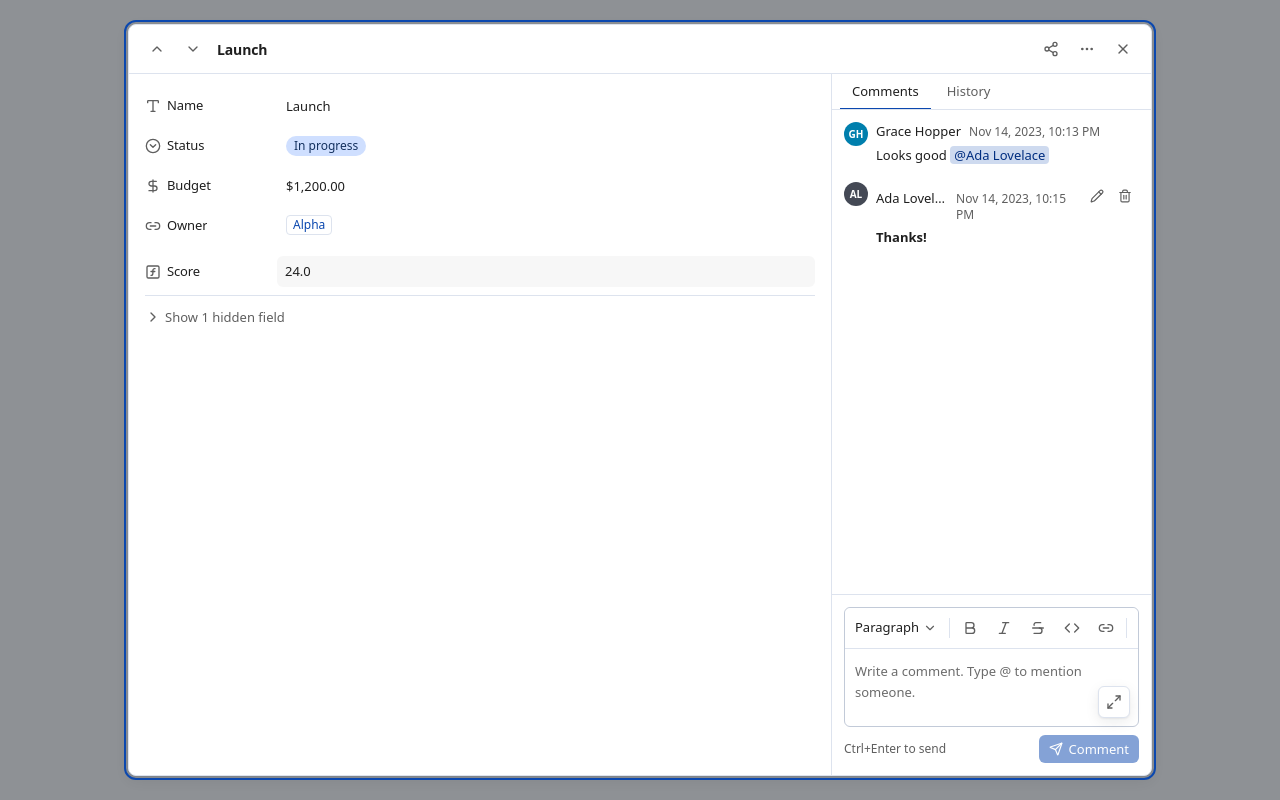
Test case: ExpandedRecord › shows a validation message for an unparseable value and does not save
Click the button named "Edit Budget". click: (316, 186)
box: [286,177,345,195]
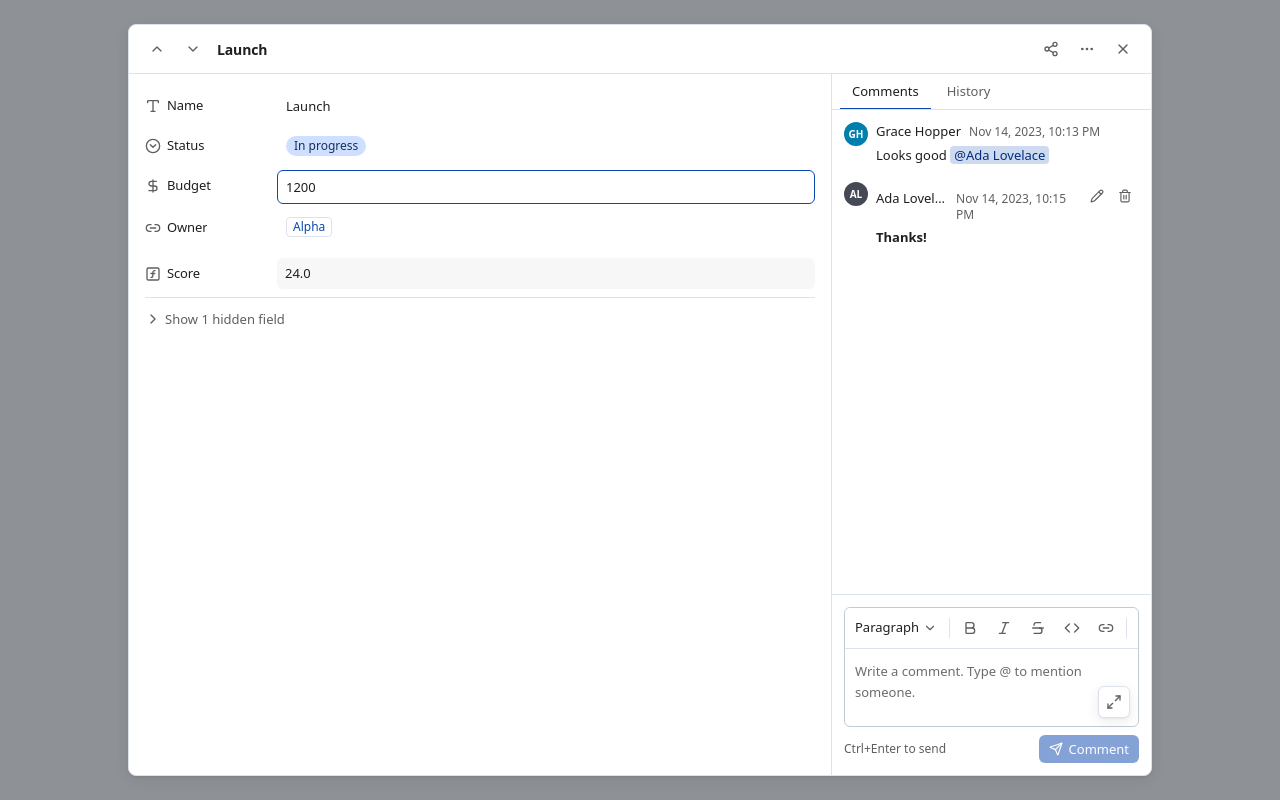
Replace the text in the field labelled "Budget" with "lots". click: (546, 187)
box: [278,171,814,203]
Then press Enter
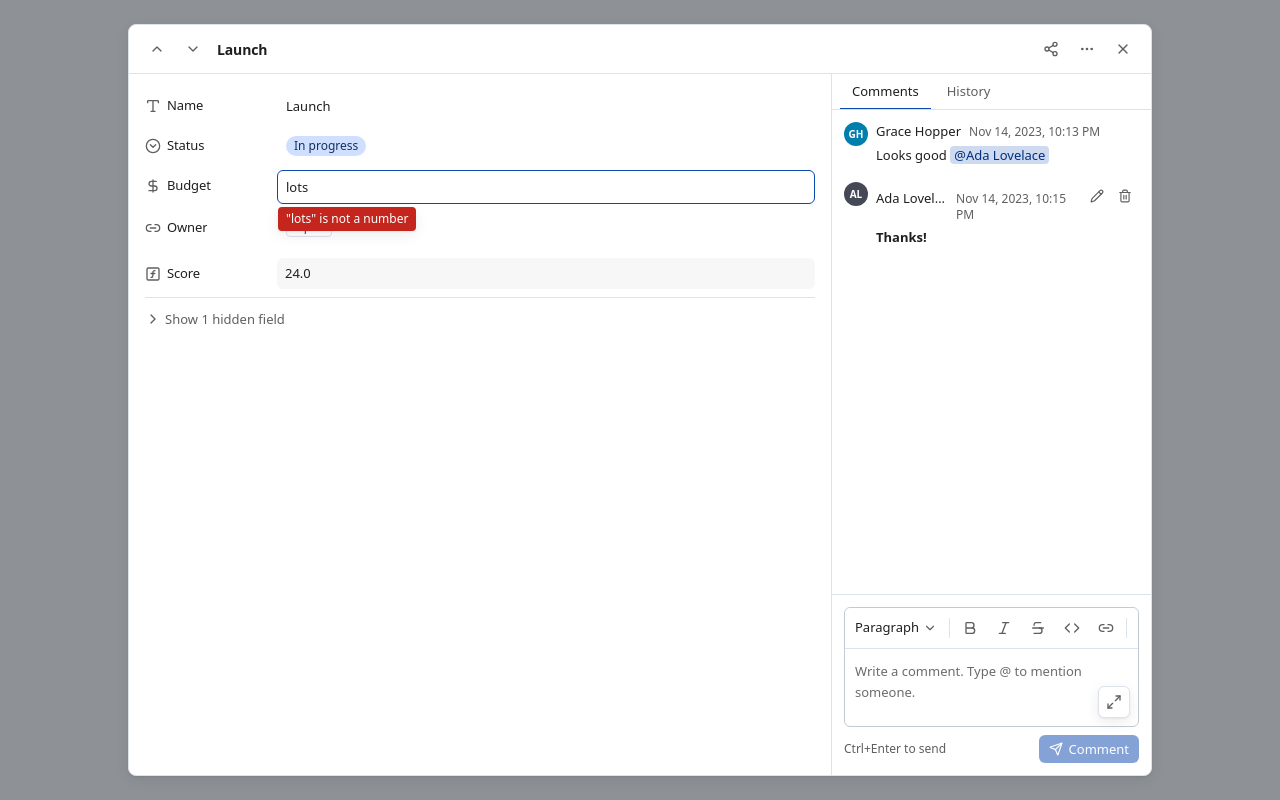
Expected: the message shows "not a number", [286,210,408,227]
